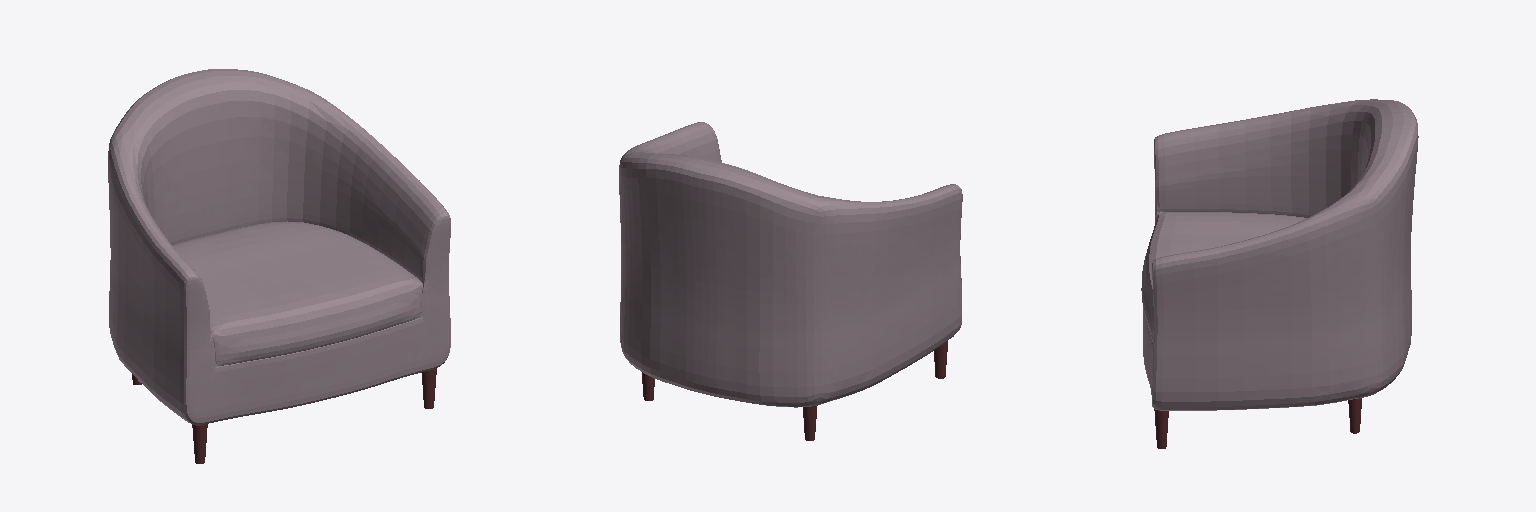
Rendered from chair.obj.
3 views of the same model, side by side, from view 1: azimuth 30°, elevation 25°; view 2: azimuth 150°, elevation 25°; view 3: azimuth 270°, elevation 25° (orthographic).
Visible parts, largest first — view 1: Loft02, Object01; view 2: Loft02, Object01; view 3: Loft02, Object01.
Part boxes in pixels (bbox=[...]): Loft02: bbox=[108, 69, 450, 424]; Object01: bbox=[132, 368, 436, 463]; Loft02: bbox=[619, 122, 962, 407]; Object01: bbox=[642, 341, 947, 440]; Loft02: bbox=[1141, 99, 1418, 410]; Object01: bbox=[1154, 398, 1361, 448].
Size of the model in its own units: 66.21 by 64.09 by 59.28.